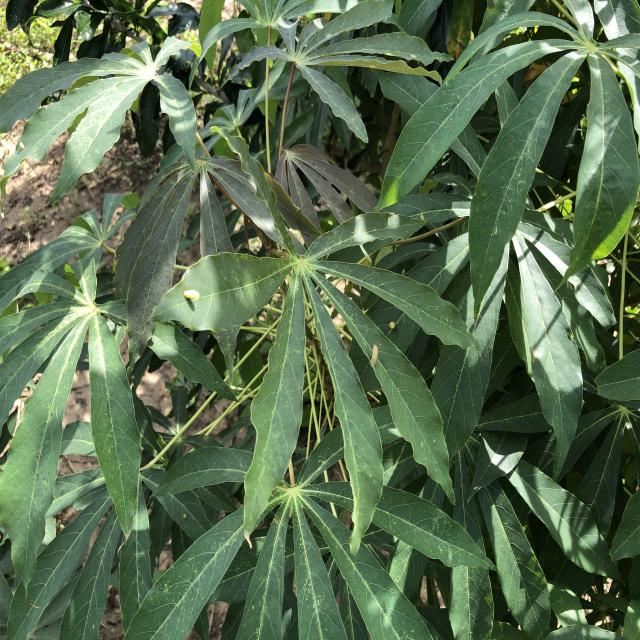Mosca: (364, 335, 385, 375), (180, 280, 207, 308), (382, 309, 401, 337), (174, 503, 196, 524)
